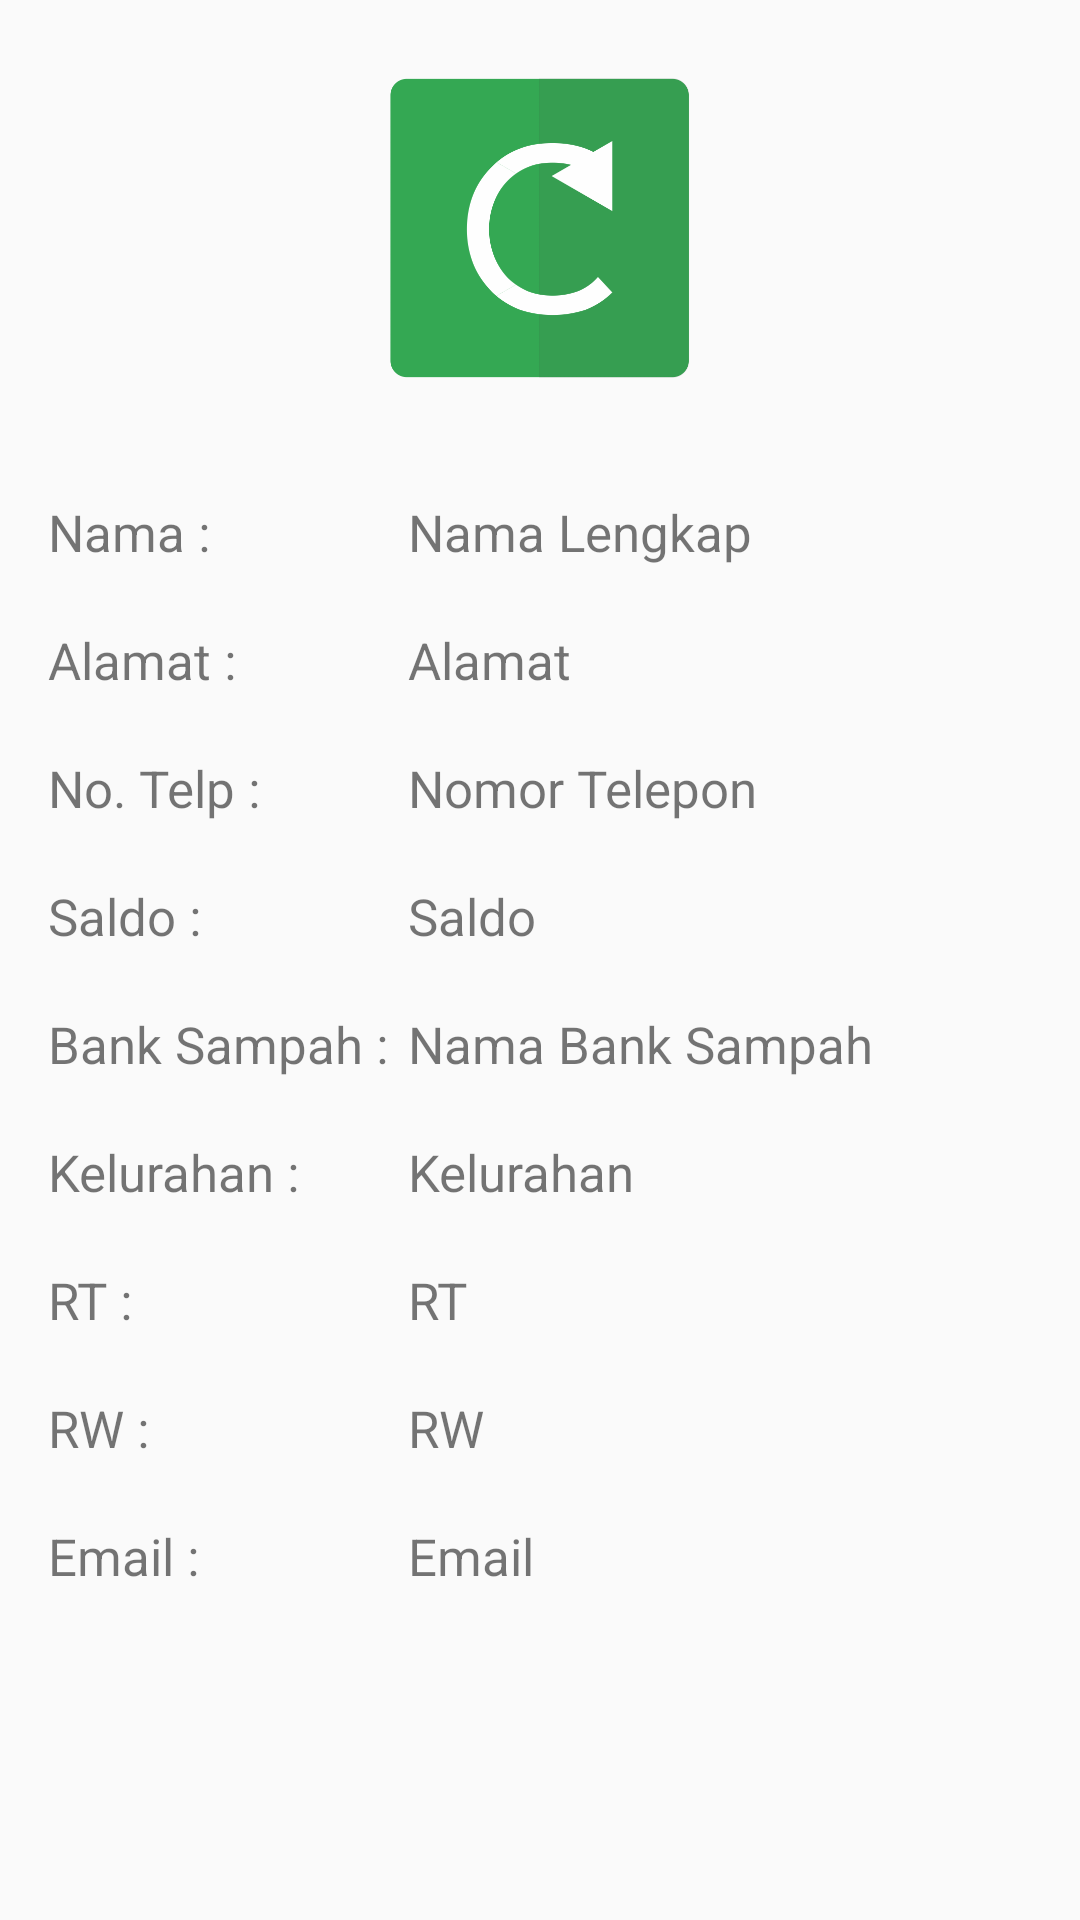

Point at icon controls on the screen. Image size 1080w x 1920h, points as (x,y).
app: (539,228)
